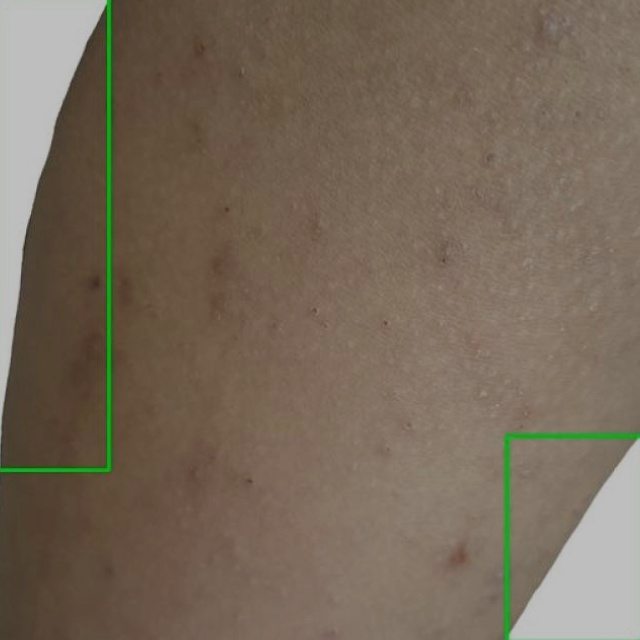Scabies: (0, 0, 109, 470), (505, 437, 639, 639)
